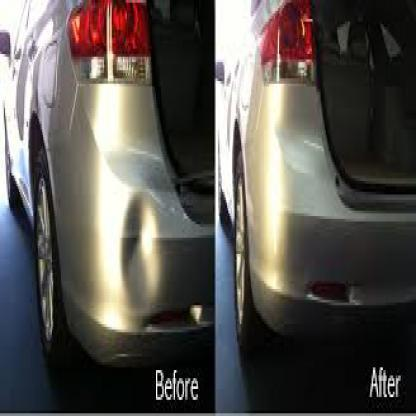dent: (112, 186, 172, 324)
